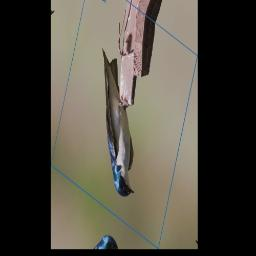Swallow: (78, 45, 156, 205)
